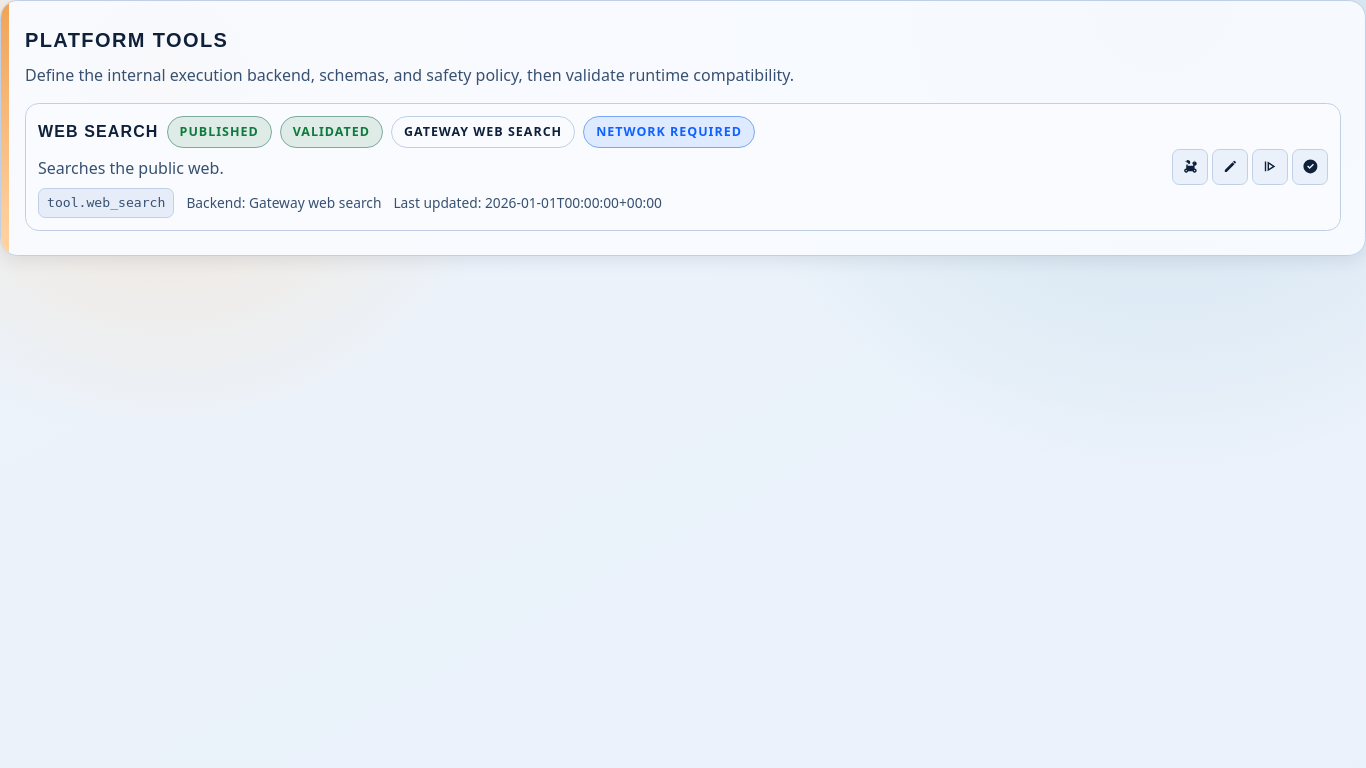
Test: CatalogToolsDirectory › opens a lifecycle graph modal from compact tool rows
Click the button named "View lifecycle for Web search" at (1190, 167), box [1172, 149, 1208, 185]
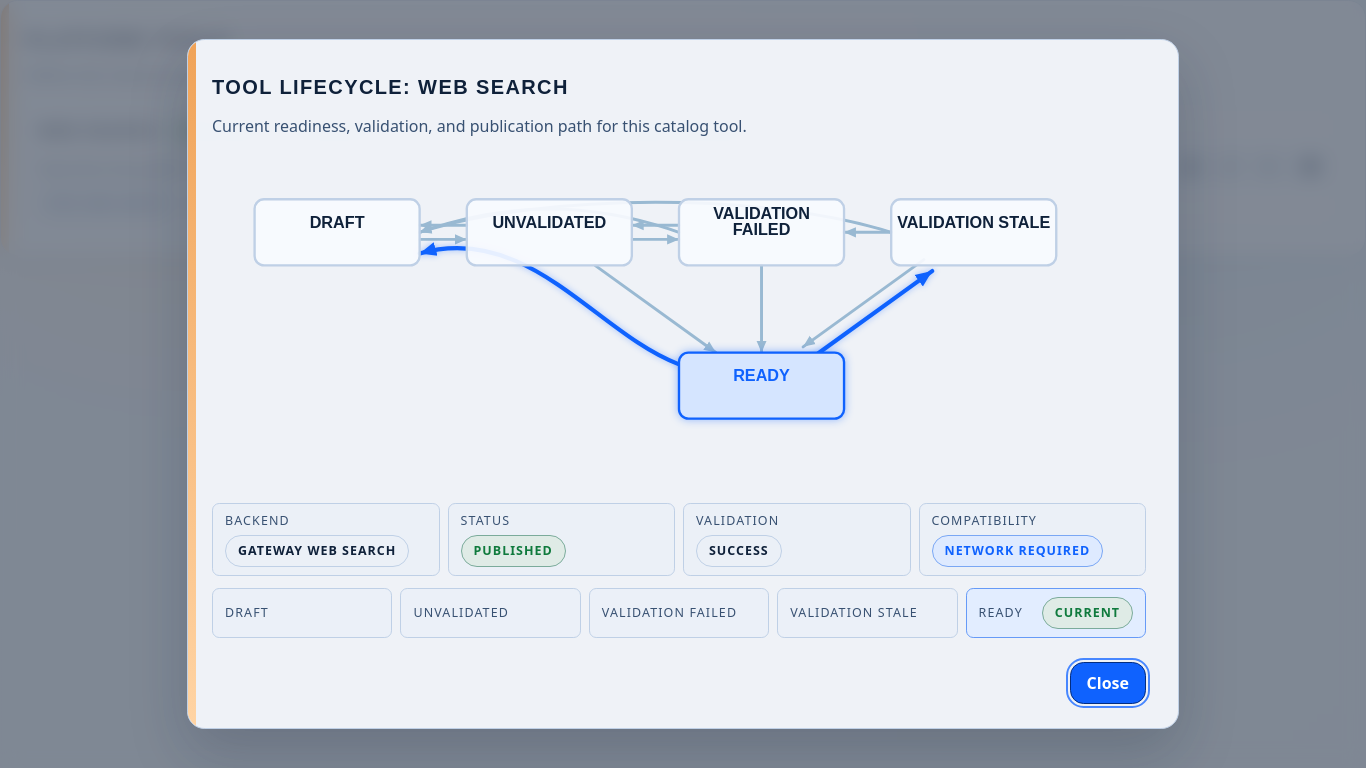
Check: the text "Current" is shown, box [1042, 597, 1133, 629]
Check: the text "Backend" is shown, box [225, 512, 290, 530]
Check: the text "Gateway web search" is shown, box [225, 535, 409, 567]
